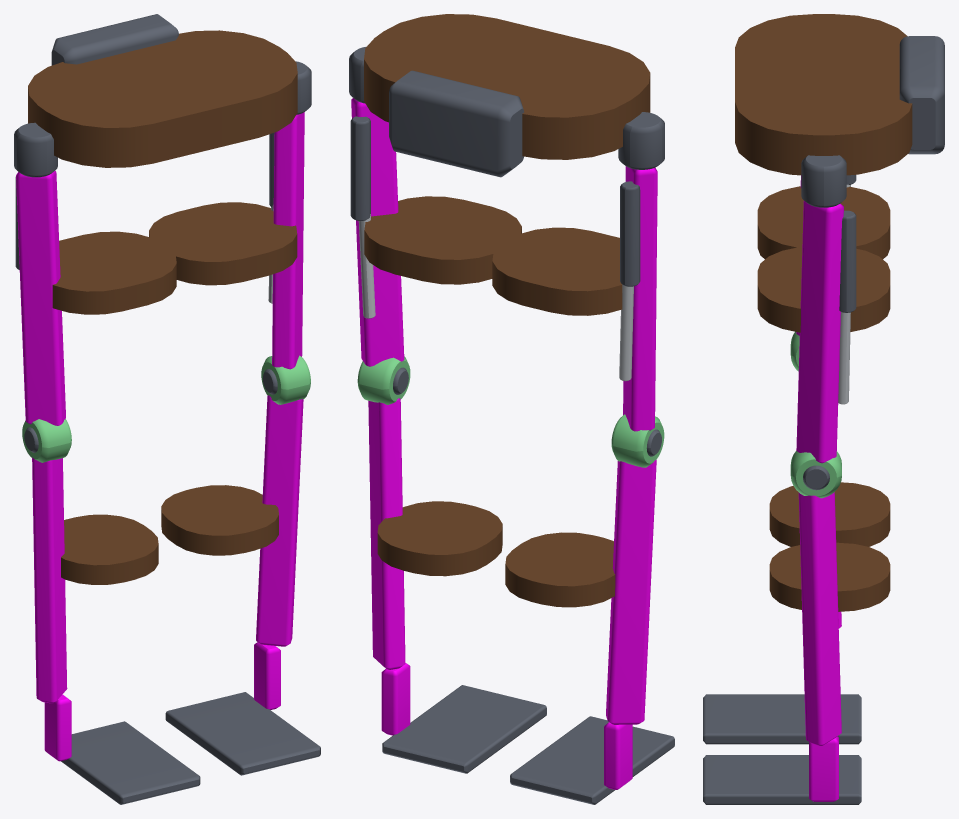
File: porte_exosquelette.glb
3 renders of one model, left to right at view 1: azimuth 30°, elevation 25°; view 2: azimuth 150°, elevation 25°; view 3: azimuth 270°, elevation 25°, orthographic. The views are drawn at different scales.
Parts seen in each view (by area): view 1: bassin__exo_sac_cuir.002, cuisse_d__exo_teinte.002, cuisse_g__exo_sac_cuir.002, cuisse_d__exo_sac_cuir.002, jambe_g__exo_teinte.002, jambe_d__exo_teinte.002, pied_g__exo_exo_metal.002, jambe_g__exo_sac_cuir.002, pied_d__exo_exo_metal.002, cuisse_g__exo_teinte.002, bassin__exo_exo_metal.002, jambe_d__exo_sac_cuir.002 (+4 smaller); view 2: bassin__exo_sac_cuir.002, bassin__exo_exo_metal.002, cuisse_g__exo_sac_cuir.002, jambe_d__exo_teinte.002, cuisse_d__exo_sac_cuir.002, pied_g__exo_exo_metal.002, jambe_g__exo_sac_cuir.002, jambe_g__exo_teinte.002, jambe_d__exo_sac_cuir.002, pied_d__exo_exo_metal.002, cuisse_g__exo_teinte.002, cuisse_d__exo_teinte.002 (+8 smaller); view 3: bassin__exo_sac_cuir.002, cuisse_g__exo_teinte.002, jambe_g__exo_teinte.002, bassin__exo_exo_metal.002, pied_g__exo_exo_metal.002, pied_d__exo_exo_metal.002, cuisse_g__exo_sac_cuir.002, cuisse_d__exo_sac_cuir.002, jambe_g__exo_sac_cuir.002, jambe_d__exo_sac_cuir.002, pied_g__exo_teinte.002, cuisse_g__exo_exo_metal.002 (+3 smaller).
Part boxes in pixels (box(x1,y1,x2,y2)): bassin__exo_sac_cuir.002: box(28, 30, 297, 167); cuisse_d__exo_teinte.002: box(16, 171, 65, 425); cuisse_g__exo_sac_cuir.002: box(149, 202, 297, 285); cuisse_d__exo_sac_cuir.002: box(52, 231, 176, 314); jambe_g__exo_teinte.002: box(256, 395, 303, 646); jambe_d__exo_teinte.002: box(32, 458, 67, 703); pied_g__exo_exo_metal.002: box(165, 692, 320, 775); jambe_g__exo_sac_cuir.002: box(161, 485, 278, 555); pied_d__exo_exo_metal.002: box(61, 721, 200, 804); cuisse_g__exo_teinte.002: box(272, 112, 304, 369); bassin__exo_exo_metal.002: box(14, 14, 311, 177); jambe_d__exo_sac_cuir.002: box(61, 514, 158, 584); bassin__exo_sac_cuir.002: box(364, 14, 650, 159); bassin__exo_exo_metal.002: box(349, 46, 664, 177); cuisse_g__exo_sac_cuir.002: box(364, 196, 521, 284); jambe_d__exo_teinte.002: box(606, 460, 656, 724); cuisse_d__exo_sac_cuir.002: box(492, 227, 622, 315); pied_g__exo_exo_metal.002: box(382, 685, 546, 773); jambe_g__exo_sac_cuir.002: box(377, 501, 502, 576); jambe_g__exo_teinte.002: box(368, 398, 405, 669); jambe_d__exo_sac_cuir.002: box(505, 532, 615, 607); pied_d__exo_exo_metal.002: box(510, 716, 674, 804); cuisse_g__exo_teinte.002: box(351, 98, 404, 366); cuisse_d__exo_teinte.002: box(623, 166, 657, 431); bassin__exo_sac_cuir.002: box(735, 14, 912, 175); cuisse_g__exo_teinte.002: box(796, 201, 843, 463); jambe_g__exo_teinte.002: box(798, 492, 841, 745); bassin__exo_exo_metal.002: box(801, 36, 944, 207); pied_g__exo_exo_metal.002: box(703, 755, 861, 804); pied_d__exo_exo_metal.002: box(703, 694, 861, 744); cuisse_g__exo_sac_cuir.002: box(757, 247, 890, 332); cuisse_d__exo_sac_cuir.002: box(757, 186, 890, 259); jambe_g__exo_sac_cuir.002: box(769, 542, 890, 611); jambe_d__exo_sac_cuir.002: box(769, 482, 890, 546); pied_g__exo_teinte.002: box(809, 736, 838, 801); cuisse_g__exo_exo_metal.002: box(839, 210, 856, 312).
Bounding box in the file's own units: 0.46 × 1.01 × 0.32.
